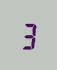three: (19, 19, 35, 50)
